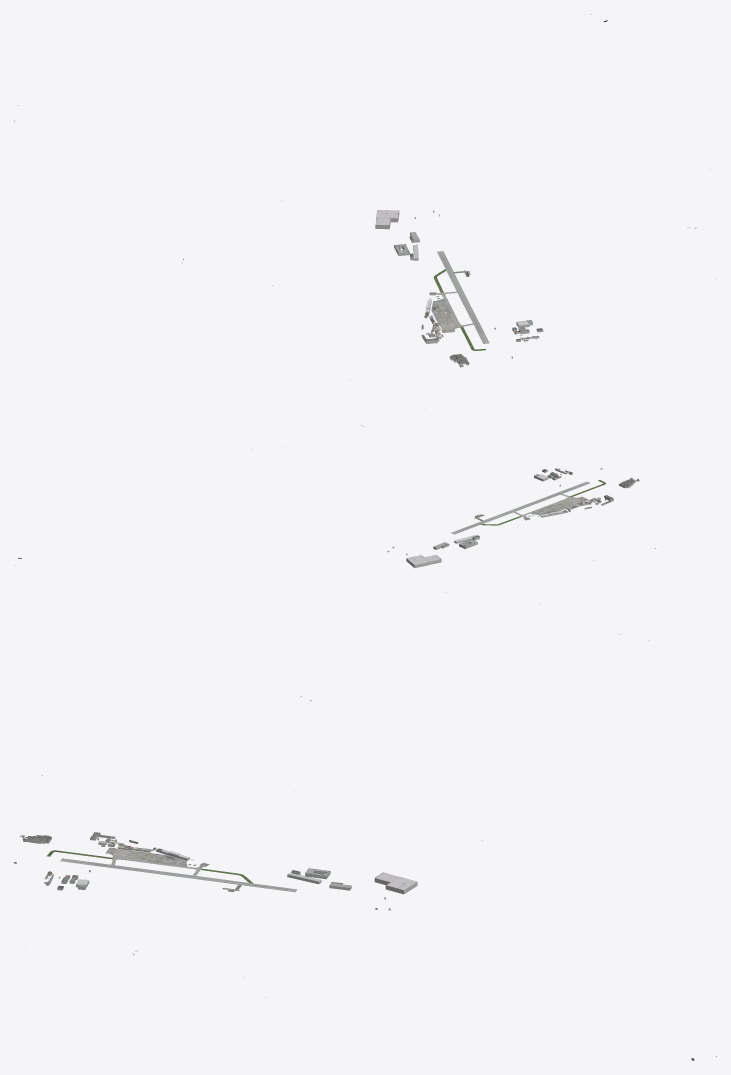
Rendered from LSZA_Airport.glb.
3 renders of one model, top to bottom at view 1: azimuth 30°, elevation 25°; view 2: azimuth 150°, elevation 25°; view 3: azimuth 270°, elevation 25°, orthographic. The views are drawn at different scales.
Parts seen in each view (by area): view 1: pavement_LSZA_pavement_5427_2191; view 2: pavement_LSZA_pavement_5427_2191; view 3: pavement_LSZA_pavement_5427_2191.
Boxes of the visible parts, x1,y1,x2,y2 form: pavement_LSZA_pavement_5427_2191: [429, 279, 478, 331]; pavement_LSZA_pavement_5427_2191: [501, 493, 586, 523]; pavement_LSZA_pavement_5427_2191: [114, 848, 234, 874].
Bounding box in the file's own units: 3357 × 493 × 2912.
Materials: 3 (2 with a texture image).
